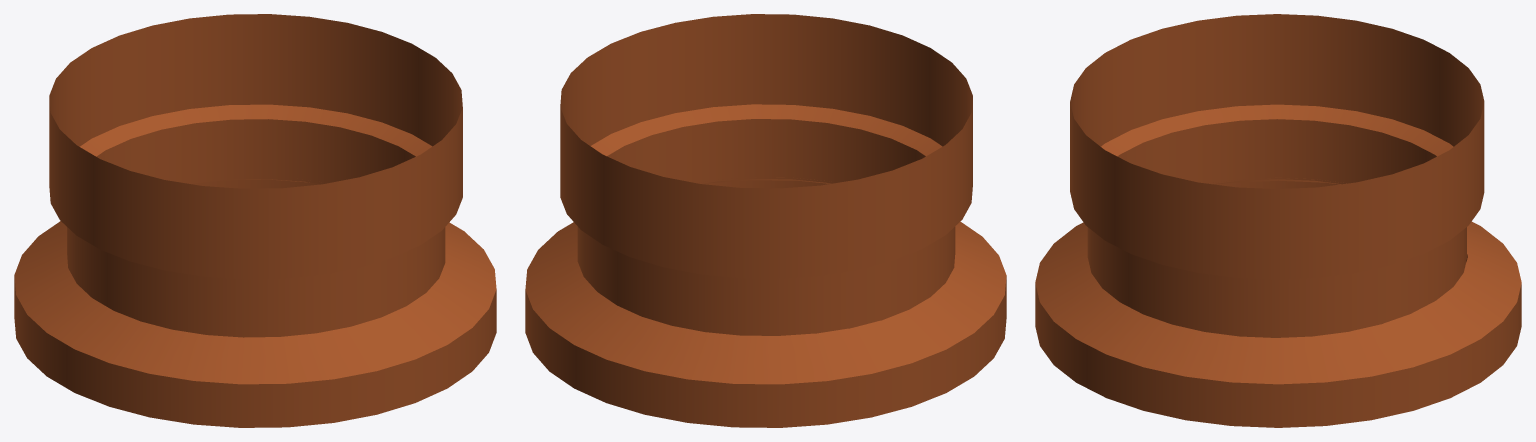
Rendered from RobotArm_ToolGrip.glb.
3 views of the same model, side by side, from view 1: azimuth 30°, elevation 25°; view 2: azimuth 150°, elevation 25°; view 3: azimuth 270°, elevation 25° (orthographic).
Visible parts, largest first — view 1: RobotArmToolGrip; view 2: RobotArmToolGrip; view 3: RobotArmToolGrip.
Part boxes in pixels (bbox=[...]): RobotArmToolGrip: bbox=[14, 14, 496, 427]; RobotArmToolGrip: bbox=[525, 14, 1006, 427]; RobotArmToolGrip: bbox=[1035, 14, 1521, 427].
Size of the model in its own units: 0.2002 by 0.103 by 0.2022.
